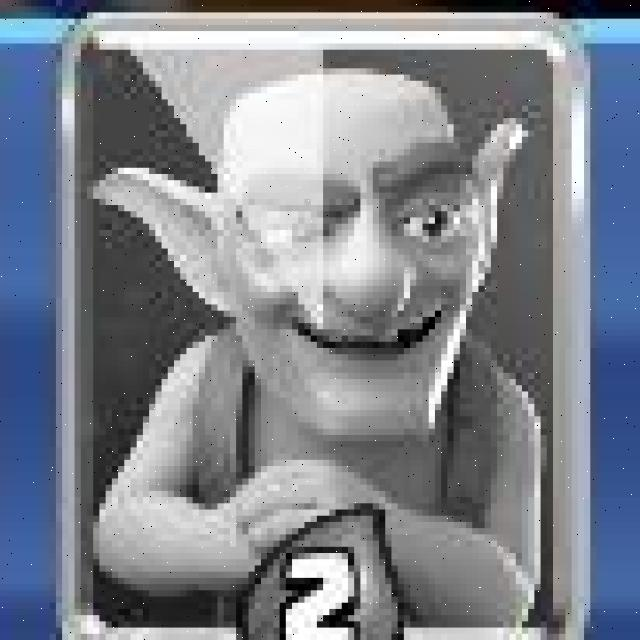Goblins: (60, 9, 588, 640)
